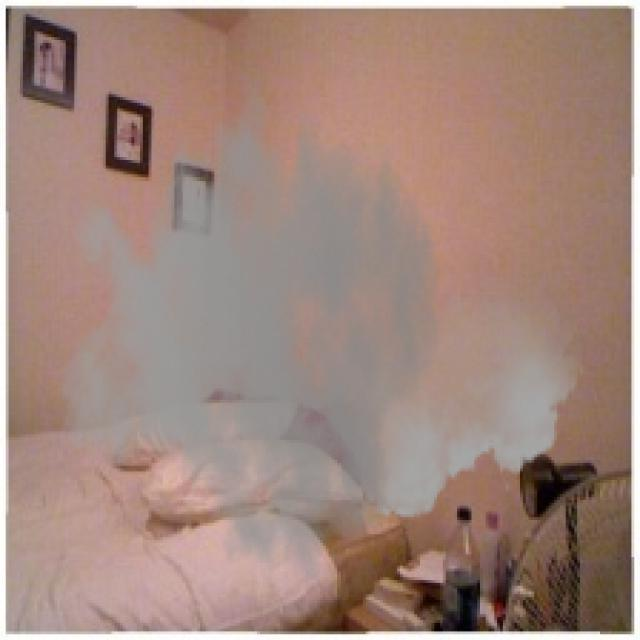Smoke: (57, 57, 586, 586)
